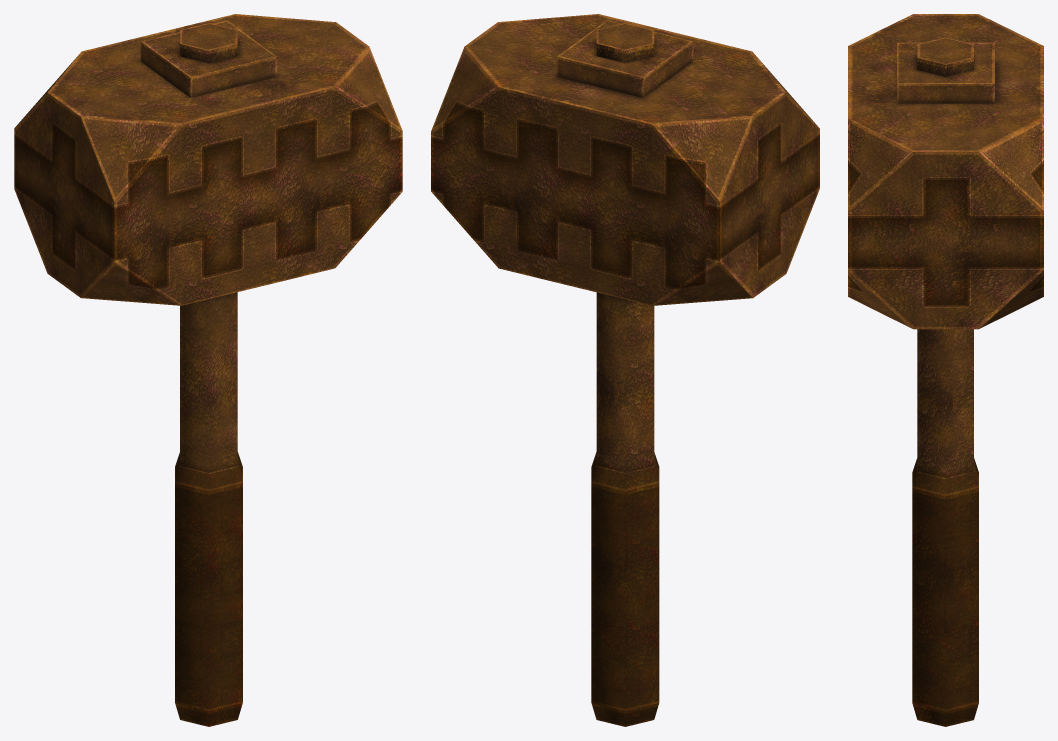
File: hammer03_rusty.FBX
3 views of the same model, side by side, from view 1: azimuth 30°, elevation 25°; view 2: azimuth 150°, elevation 25°; view 3: azimuth 270°, elevation 25° (orthographic). The views are drawn at different scales.
Visible parts, largest first — view 1: hammer03; view 2: hammer03; view 3: hammer03.
Boxes of the visible parts, box(x1,y1,x2,y2) form: hammer03: box(14, 14, 402, 726); hammer03: box(431, 14, 819, 726); hammer03: box(848, 14, 1043, 726).
Bounding box in the file's own units: 0.4305 × 0.9636 × 0.2583.
